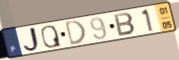1: (140, 8, 155, 33)
9: (89, 16, 109, 41)
B: (113, 12, 138, 38)
D: (64, 19, 88, 47)
J: (22, 26, 42, 53)
Q: (39, 24, 63, 49)
